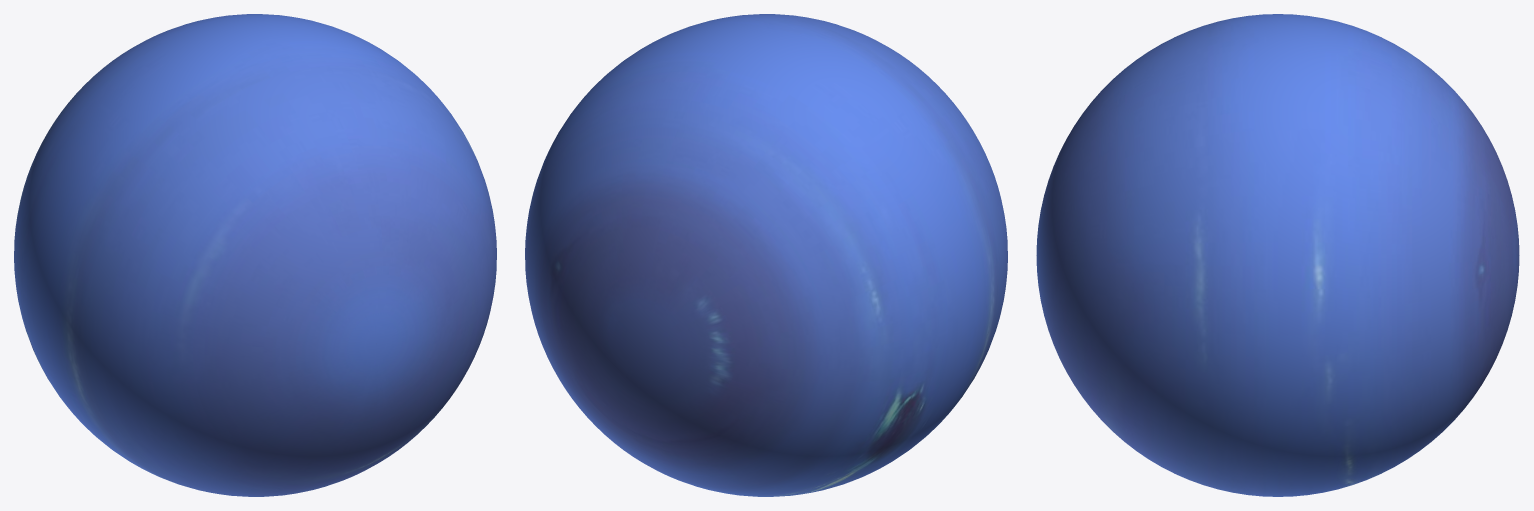
Rendered from yran.obj.
The picture shows the model from 3 angles, left to right: view 1: azimuth 30°, elevation 25°; view 2: azimuth 150°, elevation 25°; view 3: azimuth 270°, elevation 25°; orthographic projection.
Visible parts, largest first — view 1: Sphere001; view 2: Sphere001; view 3: Sphere001.
Boxes of the visible parts, x1,y1,x2,y2 form: Sphere001: (14,14,496,496); Sphere001: (525,14,1007,496); Sphere001: (1036,14,1519,496).
Bounding box in the file's own units: 100 × 100 × 100.
1 material, 1 textured.
